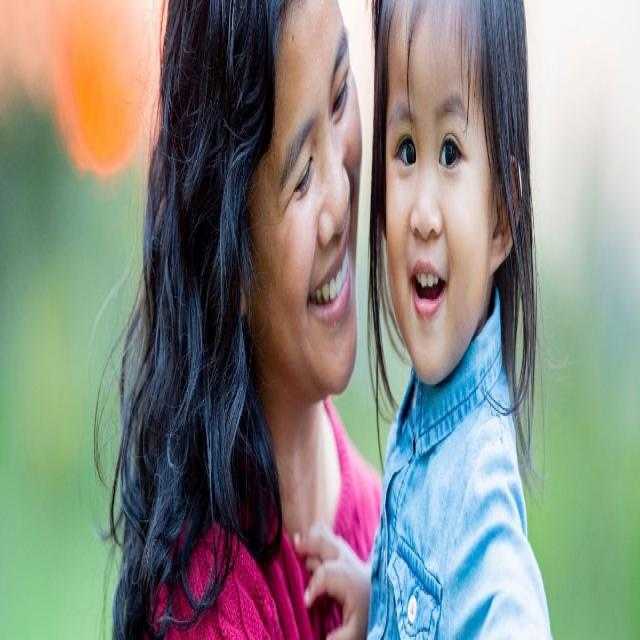adult: (95, 2, 382, 640)
child: (293, 0, 550, 640)
